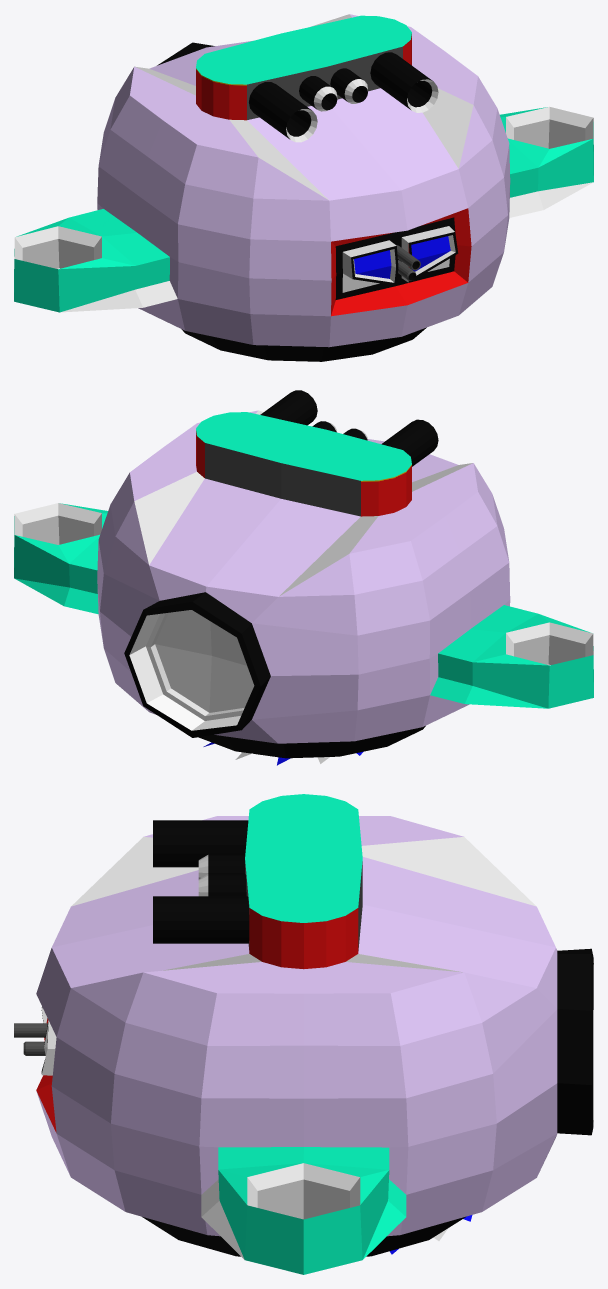
File: FlyBOT01.fbx
3 renders of one model, top to bottom at view 1: azimuth 30°, elevation 25°; view 2: azimuth 150°, elevation 25°; view 3: azimuth 270°, elevation 25°, orthographic. The views are drawn at different scales.
Parts seen in each view (by area): view 1: Sphere, Circle; view 2: Sphere, Circle; view 3: Sphere, Circle.
Part boxes in pixels (x1,y1,x2,y2): Sphere: (14,14,593,361); Circle: (249,52,438,280); Sphere: (14,410,593,758); Circle: (260,390,438,466); Sphere: (36,794,593,1274); Circle: (14,820,249,1055).
Bounding box in the file's own units: 253 × 116 × 169.
